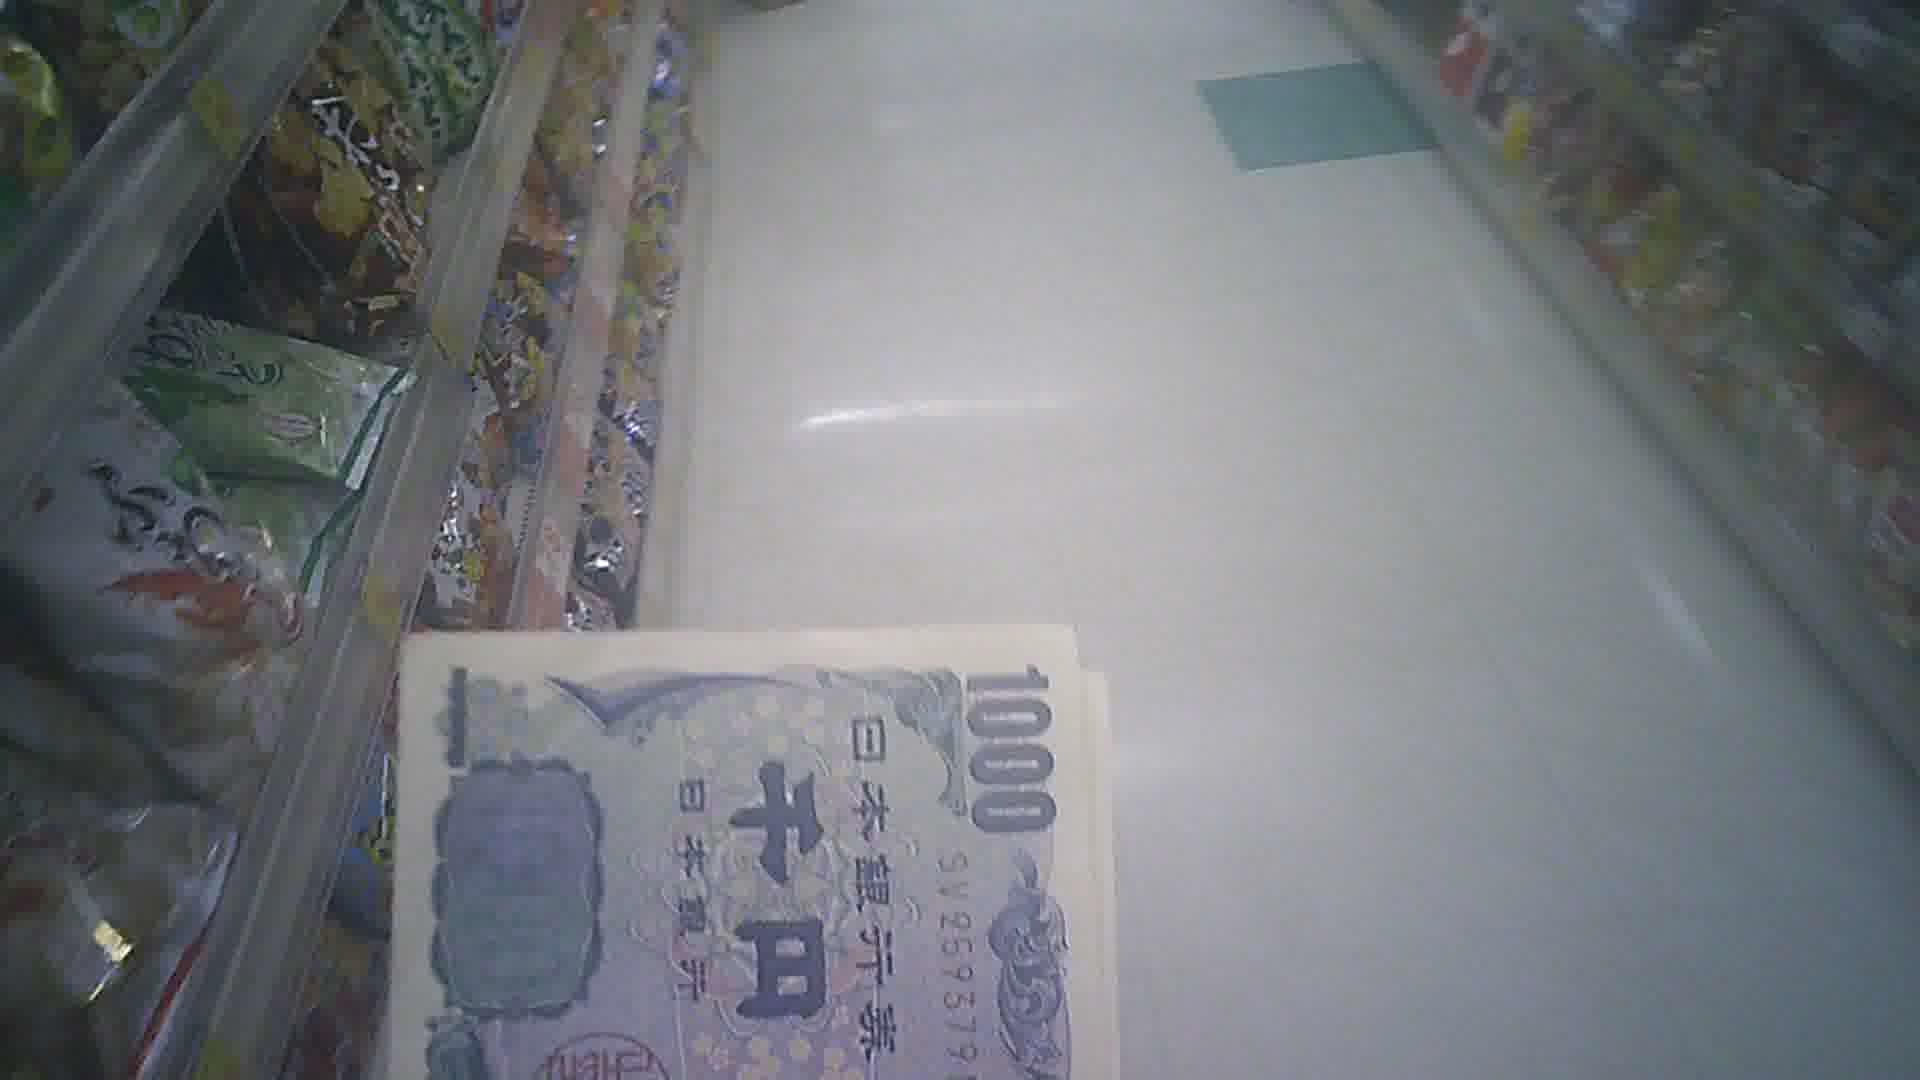1,000 Yen: (397, 613, 1114, 1079)
